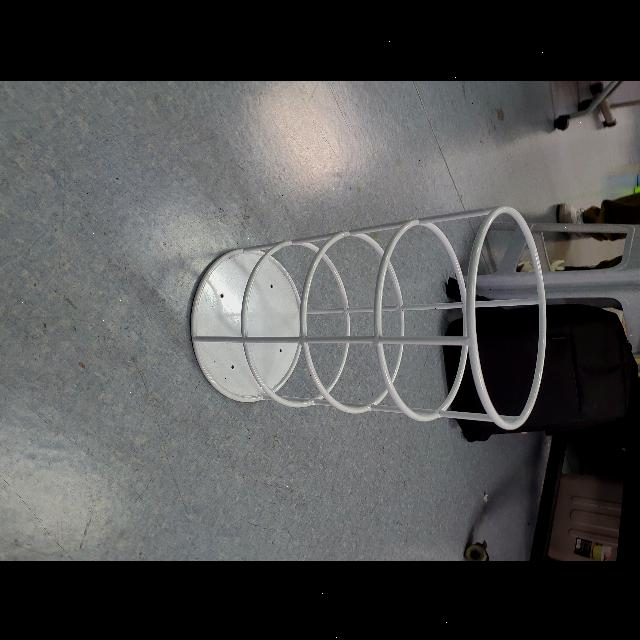S: (186, 203, 548, 434)
